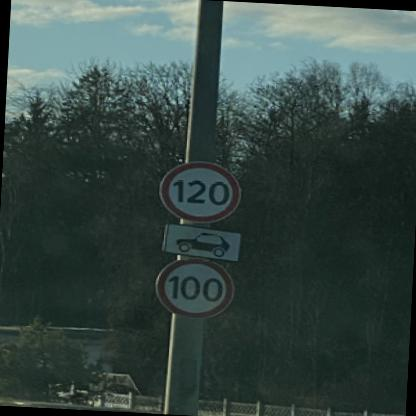speedlimit: (154, 158, 240, 224), (152, 254, 230, 319)
